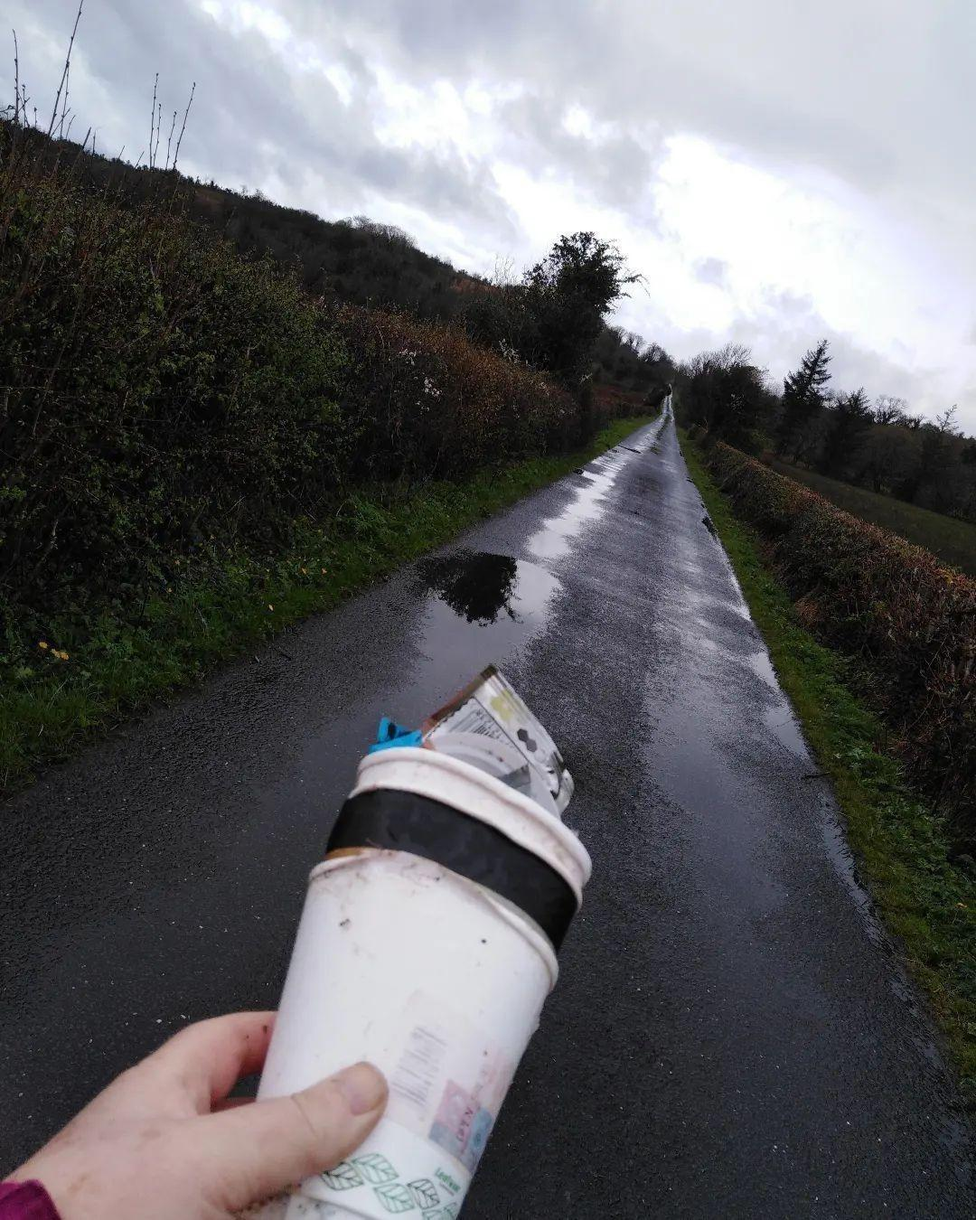cup-disposable: (233, 734, 597, 1220)
